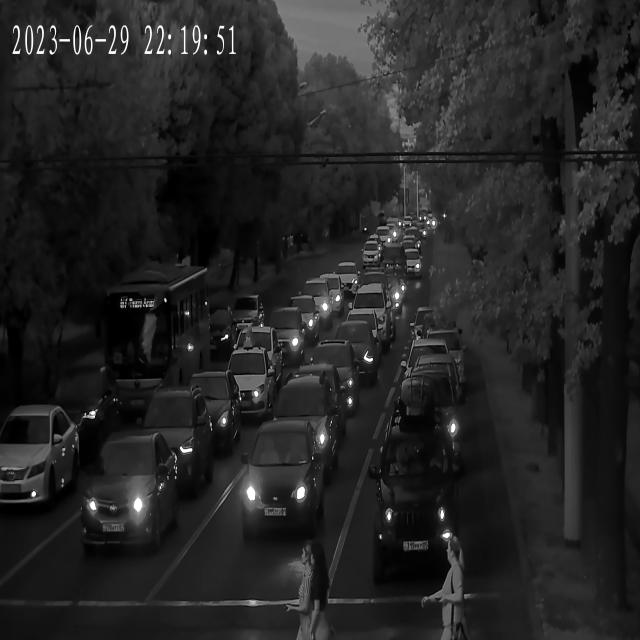Bus: (107, 266, 211, 444)
Car: (368, 428, 469, 600), (68, 435, 176, 555), (232, 425, 322, 535), (122, 388, 213, 492), (252, 376, 336, 480), (383, 369, 466, 472), (0, 406, 79, 514), (50, 367, 107, 466), (280, 369, 352, 425), (219, 351, 280, 414), (290, 340, 358, 393), (404, 356, 464, 415), (319, 324, 379, 382), (398, 337, 458, 389), (110, 378, 178, 421), (259, 309, 309, 363), (341, 304, 394, 353), (293, 280, 343, 328), (356, 272, 406, 318), (418, 329, 468, 375), (278, 296, 322, 336), (413, 305, 455, 342), (210, 307, 238, 360), (329, 263, 360, 291), (360, 240, 382, 264), (404, 254, 424, 278), (371, 229, 394, 247), (404, 232, 422, 249)
